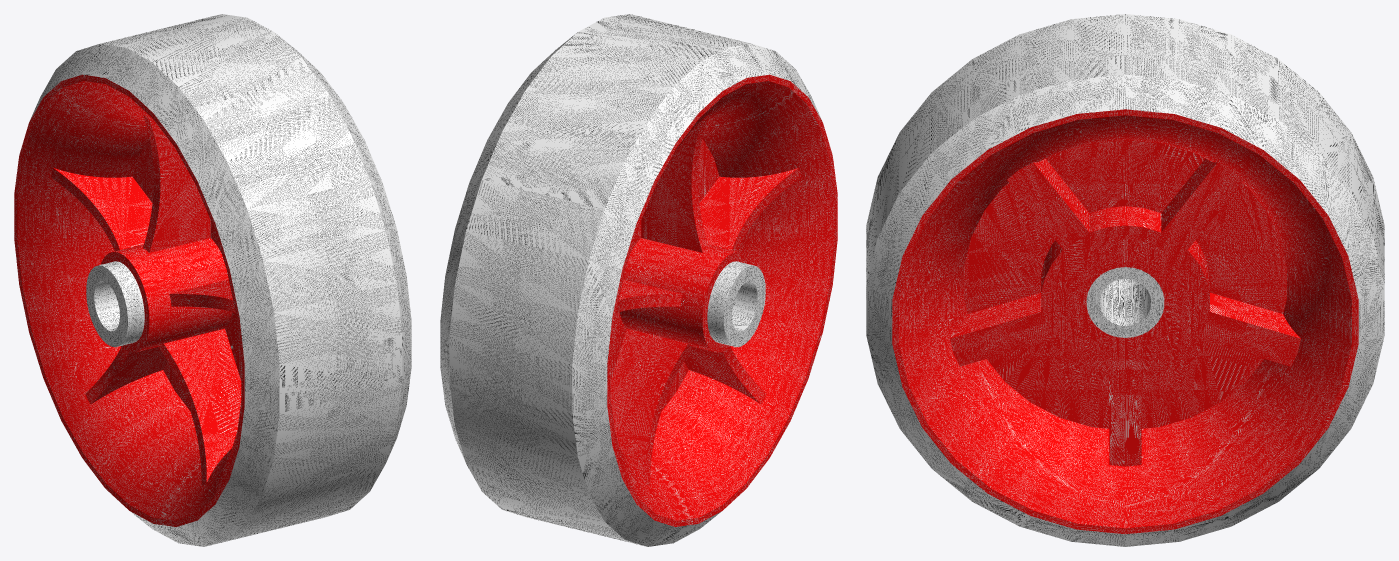
File: original-21.obj
3 renders of one model, left to right at view 1: azimuth 30°, elevation 25°; view 2: azimuth 150°, elevation 25°; view 3: azimuth 270°, elevation 25°, orthographic.
Parts seen in each view (by area): view 1: TrolleyWheel3/TrolleyWheel12/mesh6/mesh6-geometry#mesh6-geometry; view 2: TrolleyWheel3/TrolleyWheel12/mesh6/mesh6-geometry#mesh6-geometry; view 3: TrolleyWheel3/TrolleyWheel12/mesh6/mesh6-geometry#mesh6-geometry.
Part boxes in pixels (x1,y1,x2,y2): TrolleyWheel3/TrolleyWheel12/mesh6/mesh6-geometry#mesh6-geometry: (14, 14, 411, 546); TrolleyWheel3/TrolleyWheel12/mesh6/mesh6-geometry#mesh6-geometry: (440, 14, 837, 546); TrolleyWheel3/TrolleyWheel12/mesh6/mesh6-geometry#mesh6-geometry: (866, 14, 1384, 546).
Size of the model in its own units: 0.0819 by 0.1927 by 0.1916.
